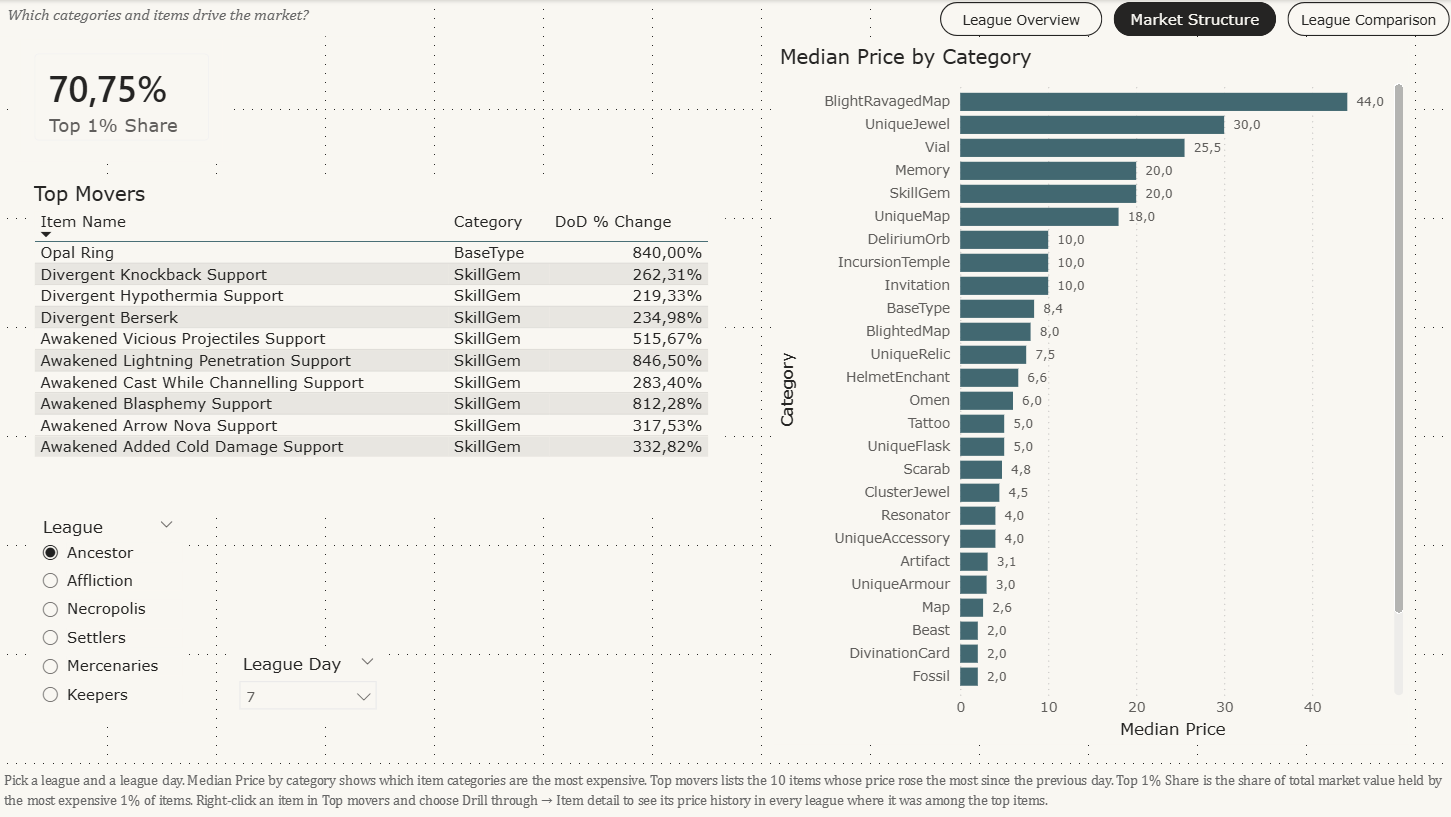

The page's visual inventory and layout, read from the dashboard file:
{"tool":"powerbi","page":{"name":"Market Structure","canvas":[1280,720],"ordinal":1},"visuals":[{"type":"textbox","box":[0,0,359.6,32.5],"z":0},{"type":"textbox","box":[0,673.5,1279.8,46.5],"z":1000},{"type":"cardVisual","fields":{"Data":["_Measures.Top 1% Share"]},"box":[14.8,30.3,188.3,111.5],"z":2000},{"type":"clusteredBarChart","title":"Median Price by Category","fields":{"Category":["dim_item.category"],"Y":["_Measures.Median Price"]},"box":[683.4,39.6,559.3,615.6],"z":3000},{"type":"tableEx","title":"Top Movers","fields":{"Values":["dim_item.item_name","dim_item.category","_Measures.DoD % Change"]},"box":[26,160.2,614.3,288.7],"z":4000},{"type":"slicer","fields":{"Values":["dim_league.league"]},"box":[26,449,140.8,186.9],"z":5000},{"type":"slicer","fields":{"Values":["dim_date.league_day"]},"box":[202.8,570.2,141.5,65.7],"z":6000},{"type":"pageNavigator","box":[830,2,450,30],"z":7000}]}

Visuals, with their boxes in screenshot pixels (x1, y1, x2, y2), scaled from the page's 1280x720 canvas onto the 1451x817 screenshot:
textbox: rect(0, 0, 408, 37)
textbox: rect(0, 764, 1450, 816)
cardVisual - _Measures.Top 1% Share: rect(17, 34, 230, 161)
"Median Price by Category" clusteredBarChart: rect(775, 45, 1409, 743)
"Top Movers" tableEx: rect(29, 182, 726, 509)
slicer - dim_league.league: rect(29, 509, 189, 722)
slicer - dim_date.league_day: rect(230, 647, 390, 722)
pageNavigator: rect(941, 2, 1450, 36)
